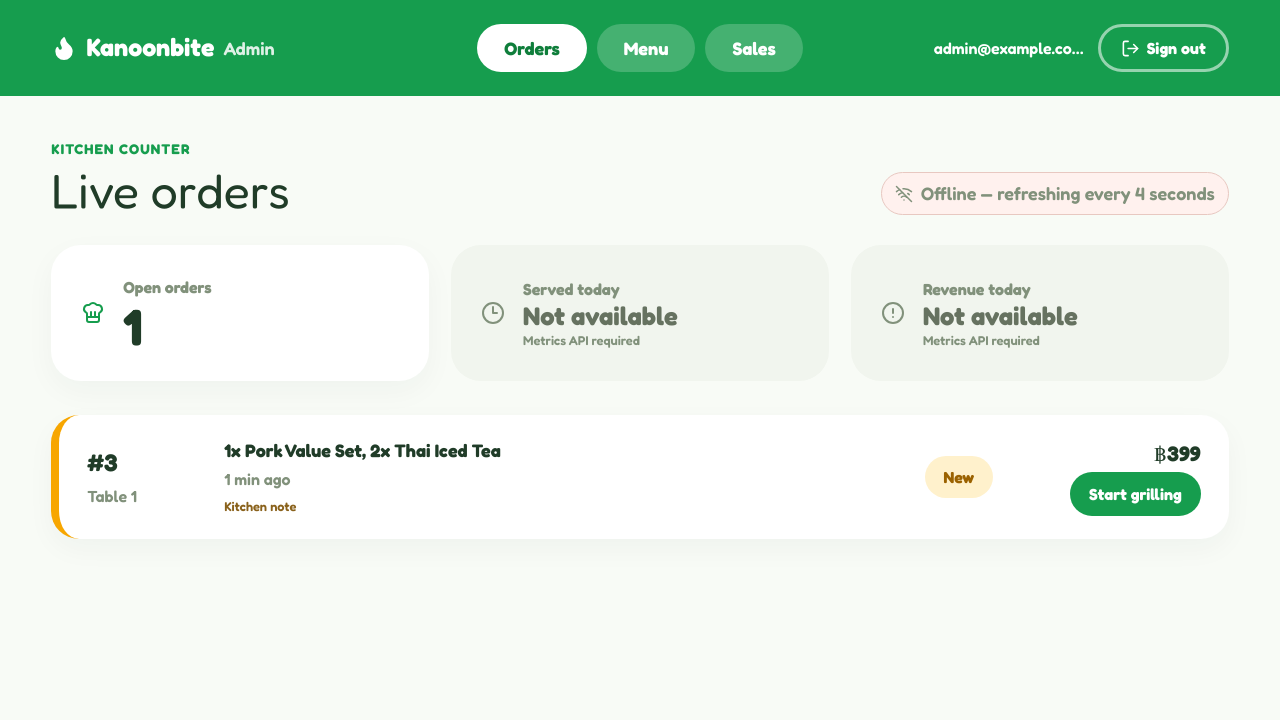
Test case: admin backoffice › refetches instead of guessing state when status update conflicts
What coordinates should you click on to do the following:
click the button "Start grilling"
I would click on:
 (1135, 494)
Its box is [1070,472,1201,516].
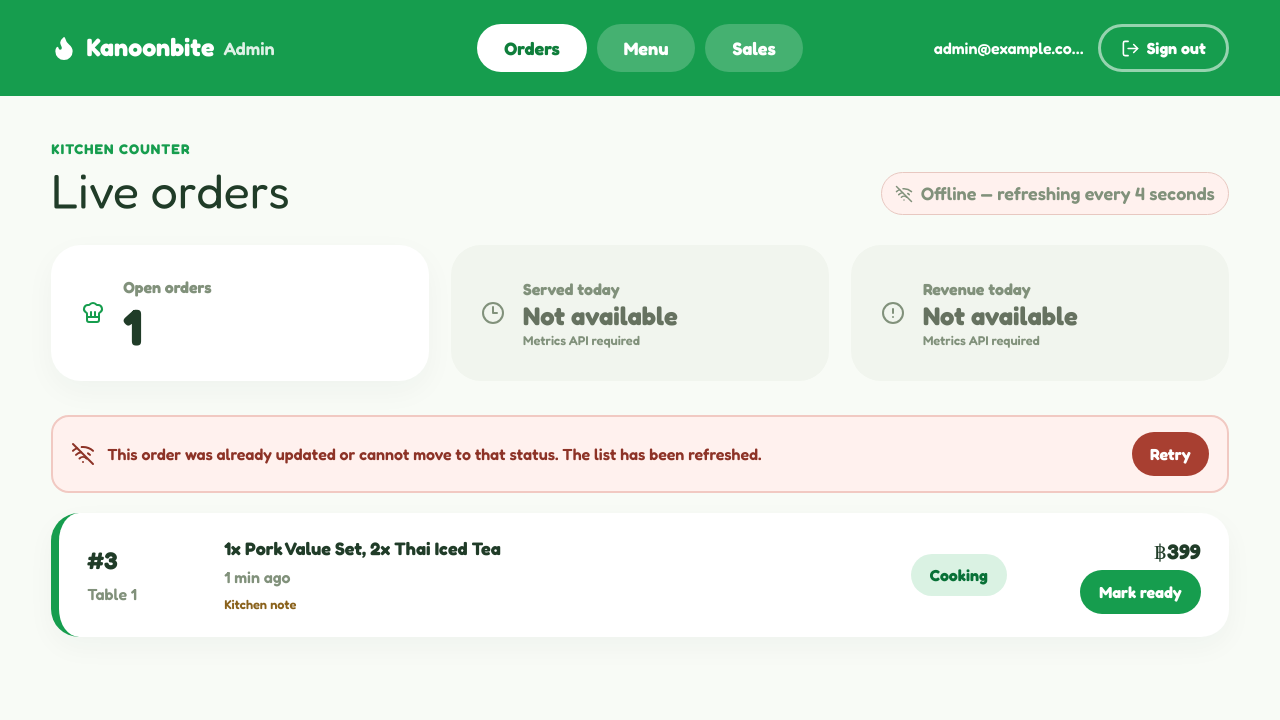
Expected: the 2nd message shows "already updated", [107,444,762,464]
Expected: the text "Cooking" is shown, [911,554,1007,596]
